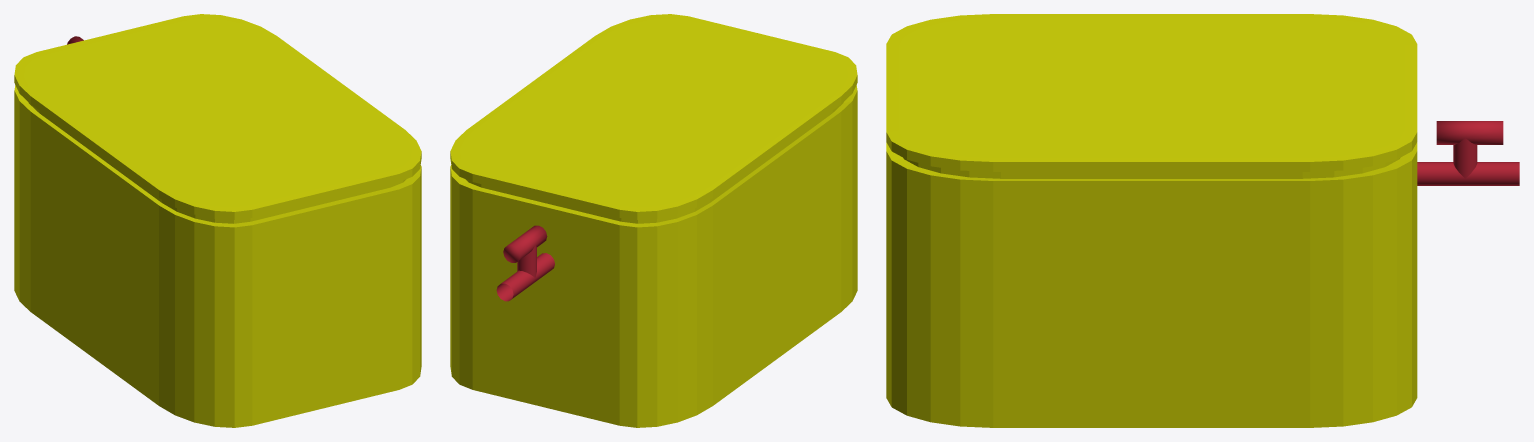
File: Penampung Slurry.fbx
3 views of the same model, side by side, from view 1: azimuth 30°, elevation 25°; view 2: azimuth 150°, elevation 25°; view 3: azimuth 270°, elevation 25° (orthographic). The views are drawn at different scales.
Visible parts, largest first — view 1: Penampung Slurry; view 2: Penampung Slurry, Katup Slurry; view 3: Penampung Slurry, Katup Slurry.
Part boxes in pixels (box(x1,y1,x2,y2)): Penampung Slurry: box(14, 14, 421, 427); Penampung Slurry: box(450, 14, 857, 427); Katup Slurry: box(496, 225, 554, 301); Penampung Slurry: box(886, 14, 1417, 427); Katup Slurry: box(1417, 121, 1519, 185).
Size of the model in its own units: 114 by 95.6 by 206.
